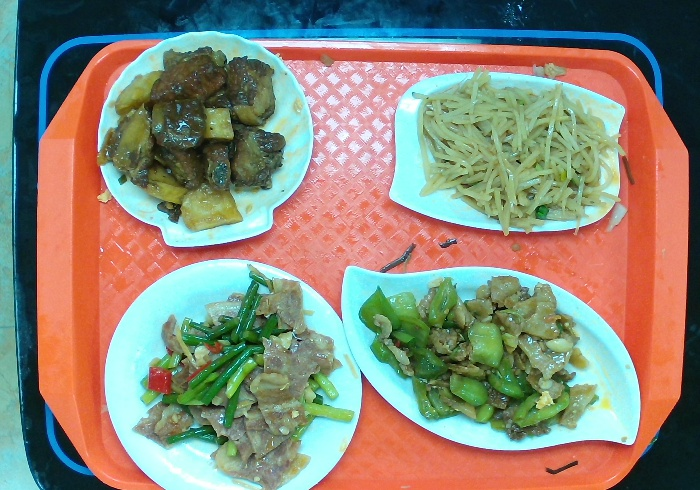RJxy-Bei_Ke_Wan: (97, 24, 319, 246)
RJxy-Jian_Jiao_Fang_Die: (392, 71, 622, 233)
RJxy-Jian_Jiao_Pan: (331, 254, 645, 459)
RJxy-Yuan_Pan: (100, 258, 371, 490)
